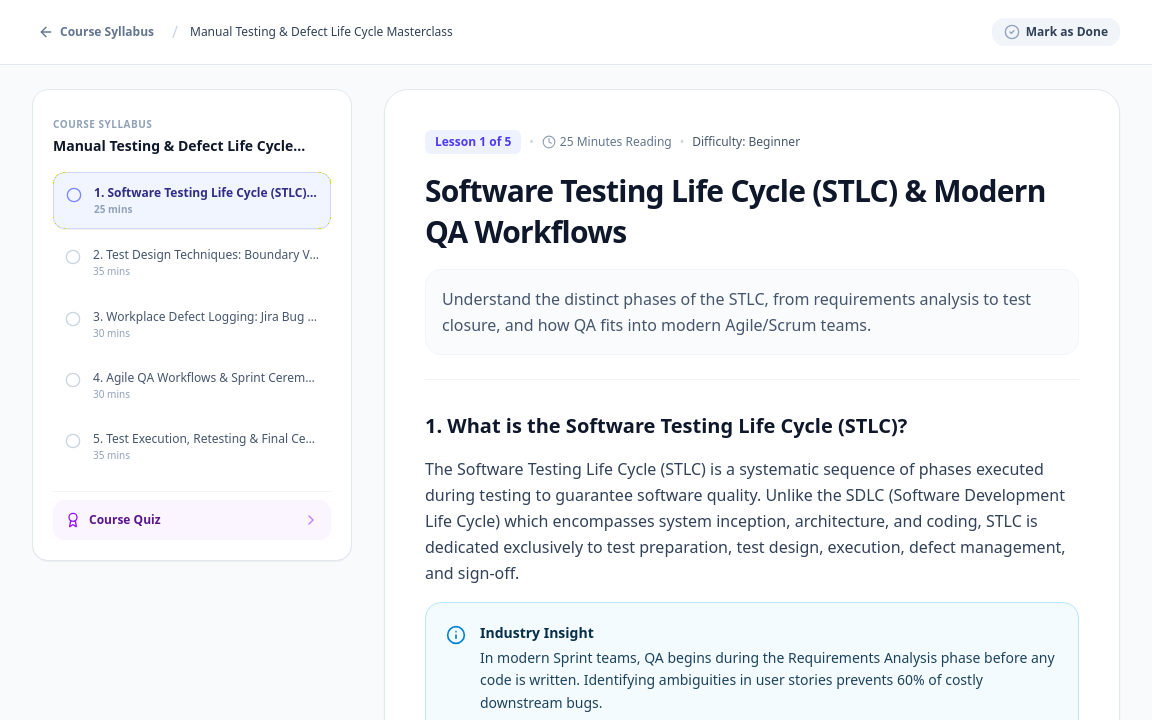
Scenario: LessonViewerPage Component (Phase 4) › allows toggling completion state via Mark as Done button
The width and height of the screenshot is (1152, 720).
Toggle to completed
Click the button "Mark as Done" at (1056, 32), box [992,18,1120,46]
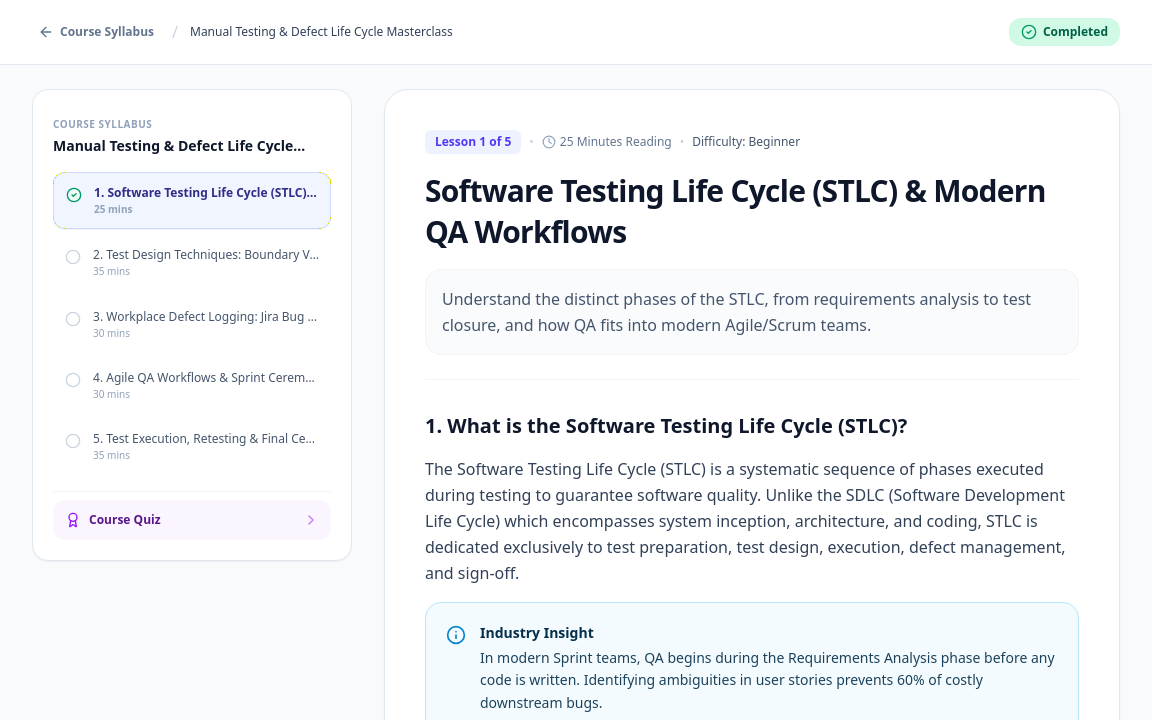
Now the button "Completed" is shown, box [1009,18,1120,46]
